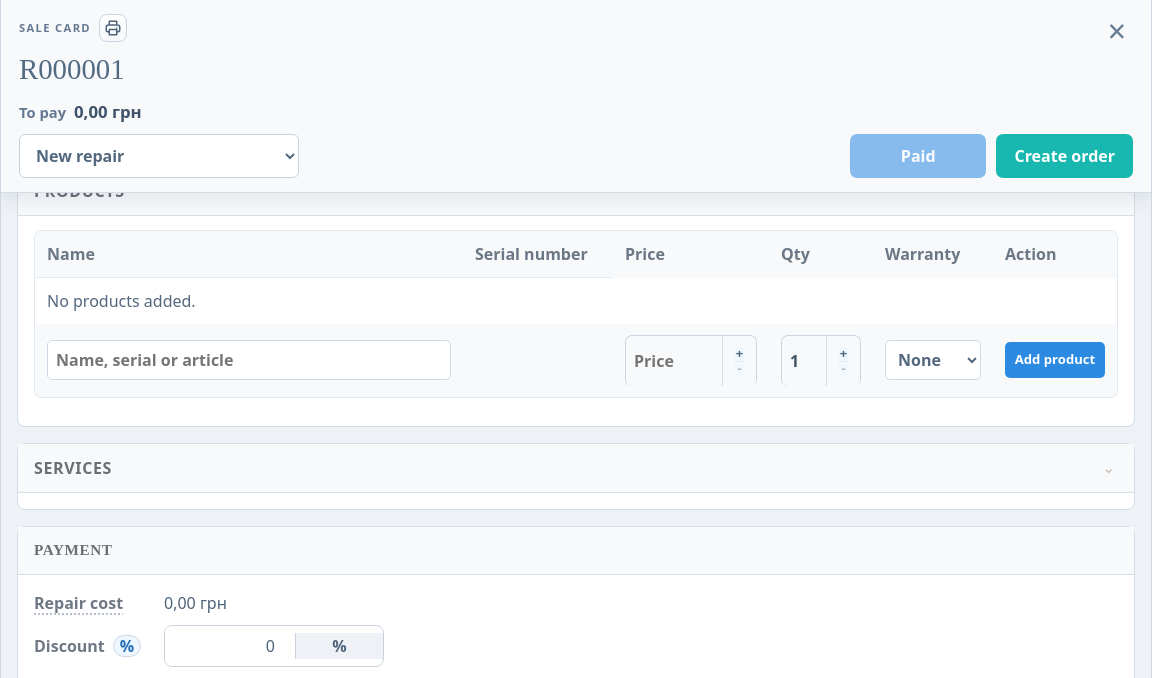
Scenario: OrderDetailCard product entry › shows stock suggestions with warehouse when searching by article
Type "A000001" into the field with placeholder "Name, serial or article" at [249, 360], box left=47, top=340, right=451, bottom=380
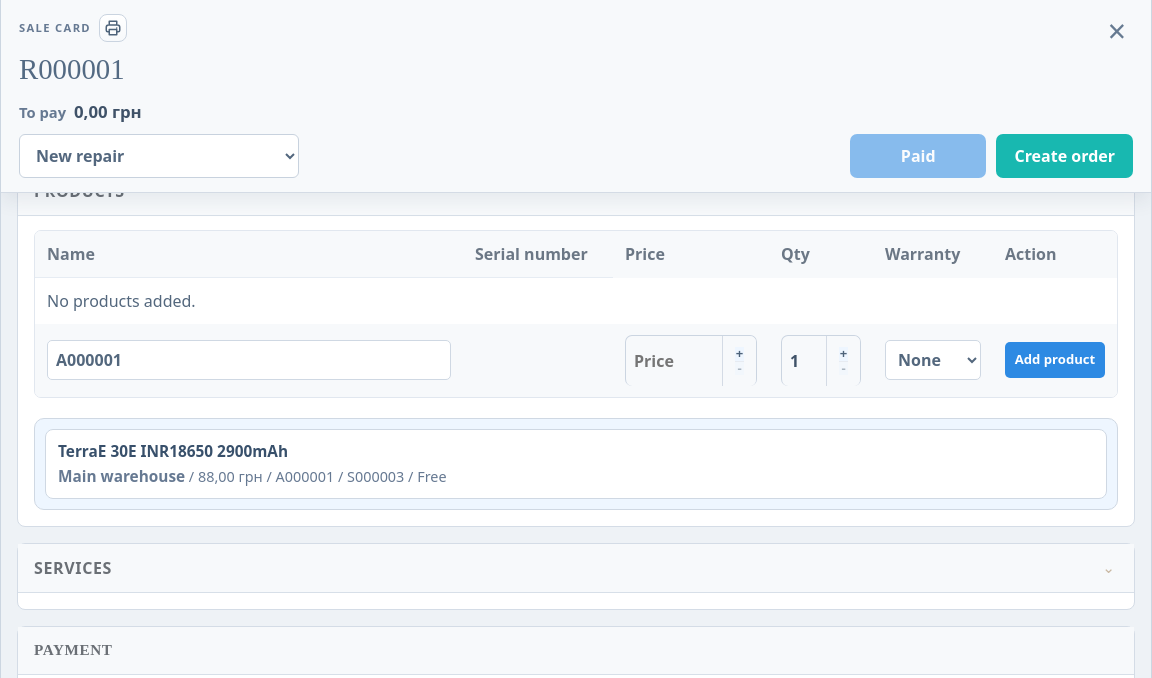
Check: the text "TerraE 30E INR18650 2900mAh" is shown, box left=58, top=441, right=288, bottom=462
Check: the text "Main warehouse" is shown, box left=58, top=466, right=185, bottom=487
Check: the text "Main warehouse / 88,00 грн / A000001 / S000003 / Free" is shown, box left=58, top=466, right=446, bottom=487
